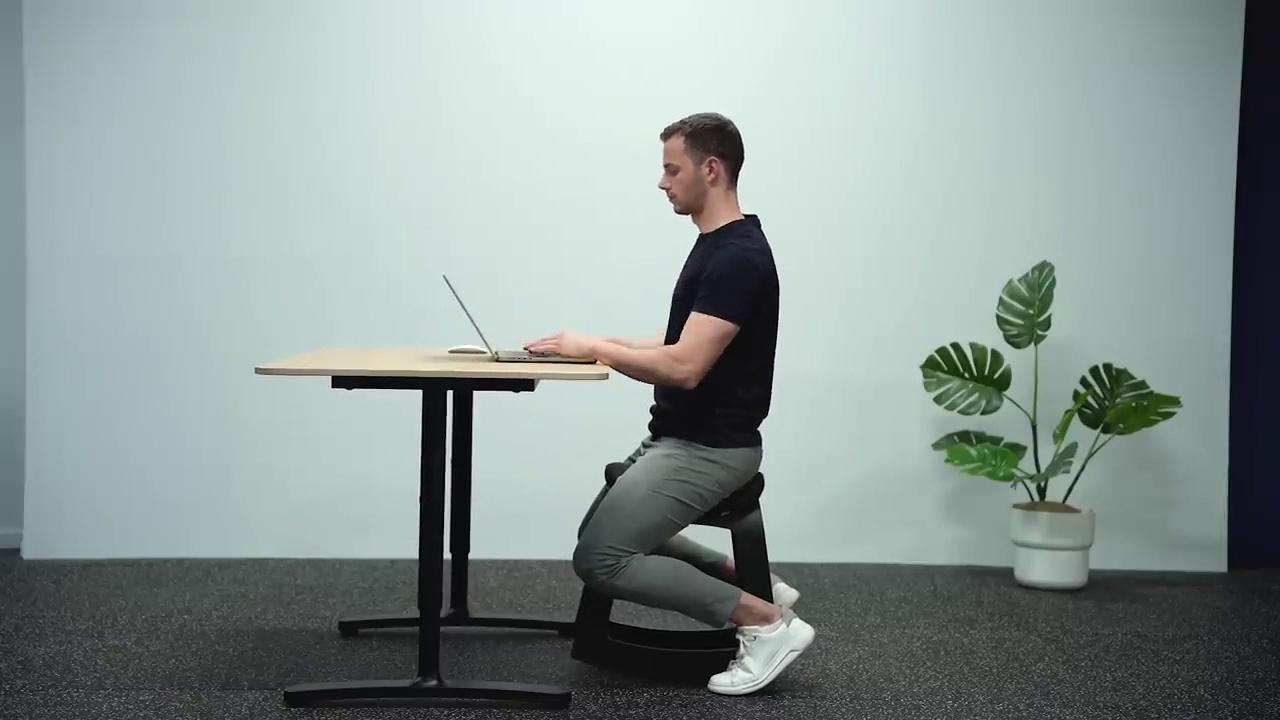GoodPosture: (525, 112, 814, 694)
